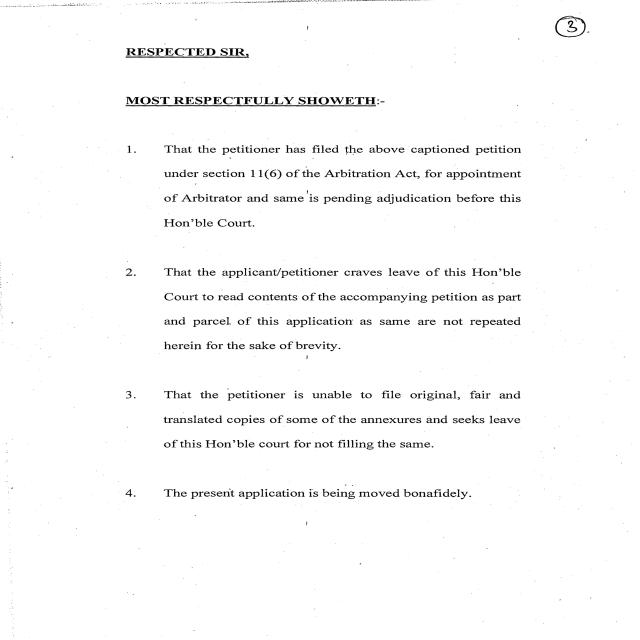page-number: (424, 1, 638, 126)
